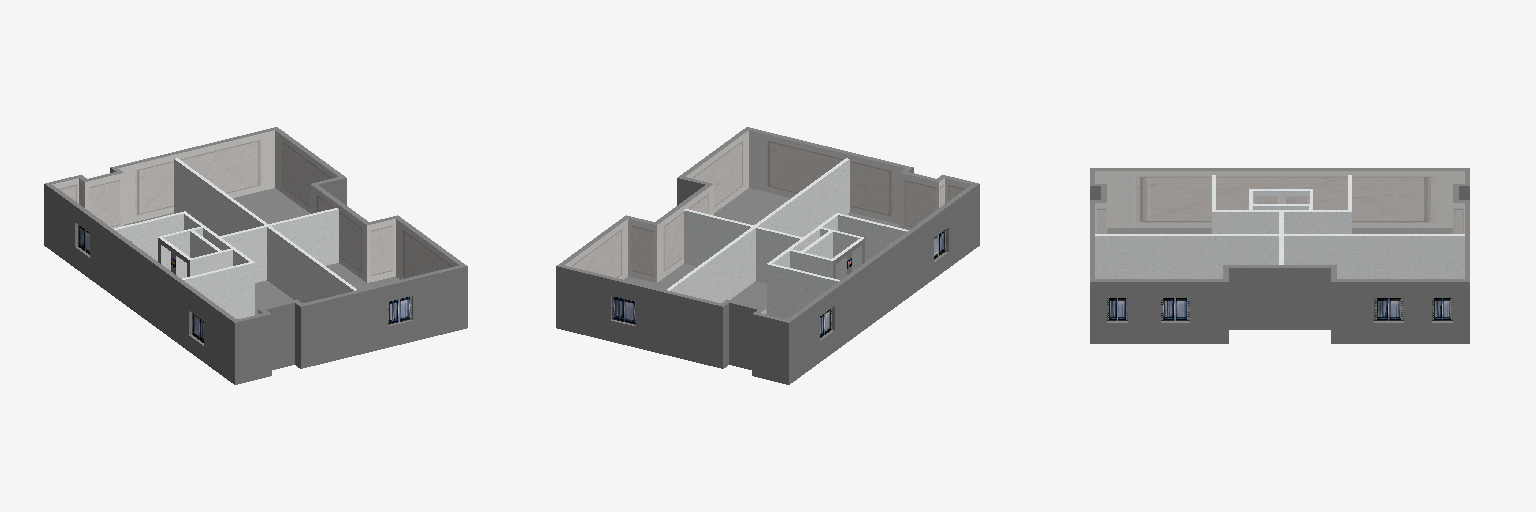
3 renders of one model, left to right at view 1: azimuth 30°, elevation 25°; view 2: azimuth 150°, elevation 25°; view 3: azimuth 270°, elevation 25°, orthographic.
Parts seen in each view (by area): view 1: floor378; view 2: floor378; view 3: floor378.
Part boxes in pixels (x1,y1,x2,y2): floor378: (44, 127, 467, 384); floor378: (556, 127, 979, 384); floor378: (1090, 168, 1469, 343).
Bounding box in the file's own units: 65.84 × 16.82 × 93.31.
Materials: 8 (5 with a texture image).